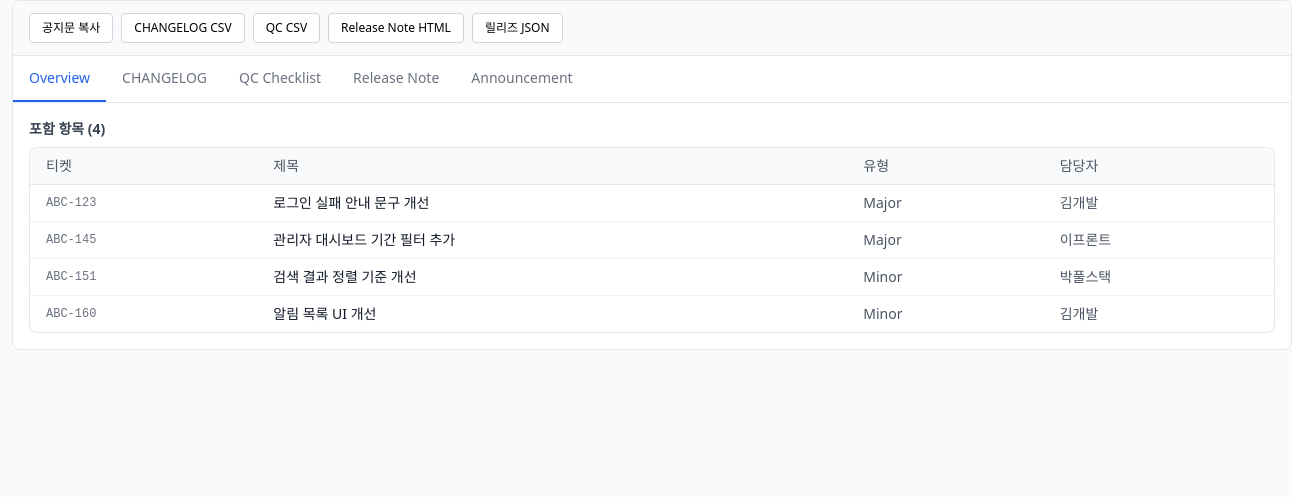
ReleaseDocumentTabs › switches to QC Checklist tab and shows test cases with status
Click the tab "QC Checklist". click: (280, 79)
box: [223,56,337,102]
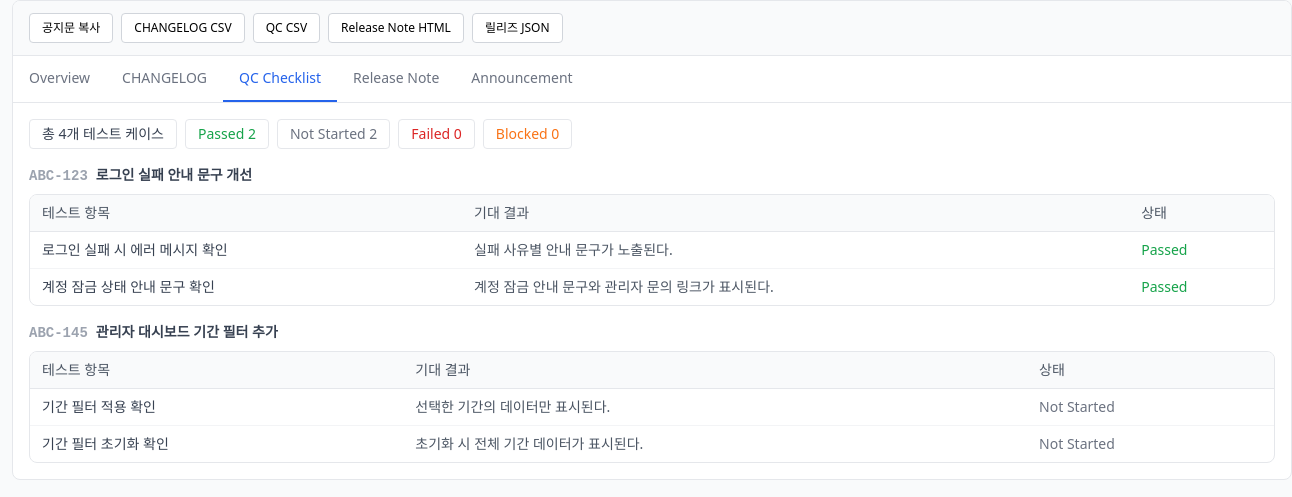
Expected: the text "총 4개 테스트 케이스" is shown, [29,119,177,149]
Expected: the text "Passed 2" is shown, [185,119,269,149]
Expected: the text "Not Started 2" is shown, [277,119,390,149]
